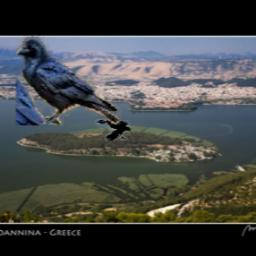Crow: (17, 36, 122, 125), (96, 119, 131, 141)
